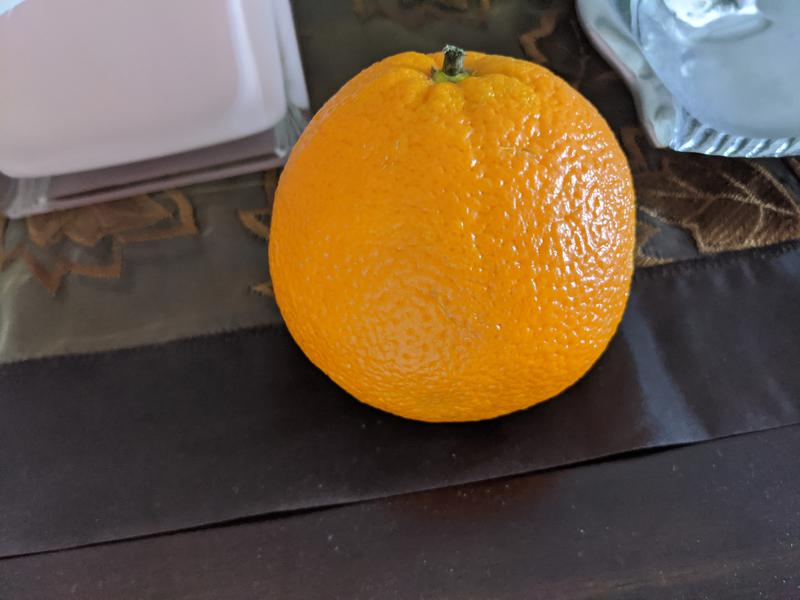orange: (268, 46, 635, 425)
